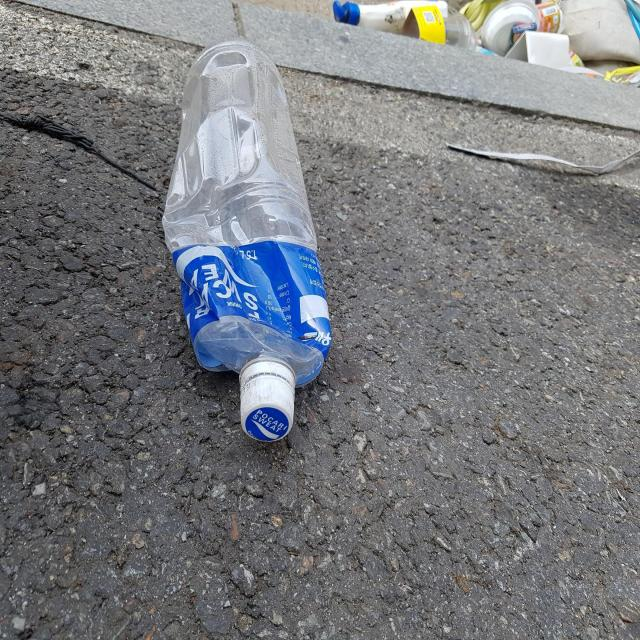plastic: (162, 39, 331, 442)
